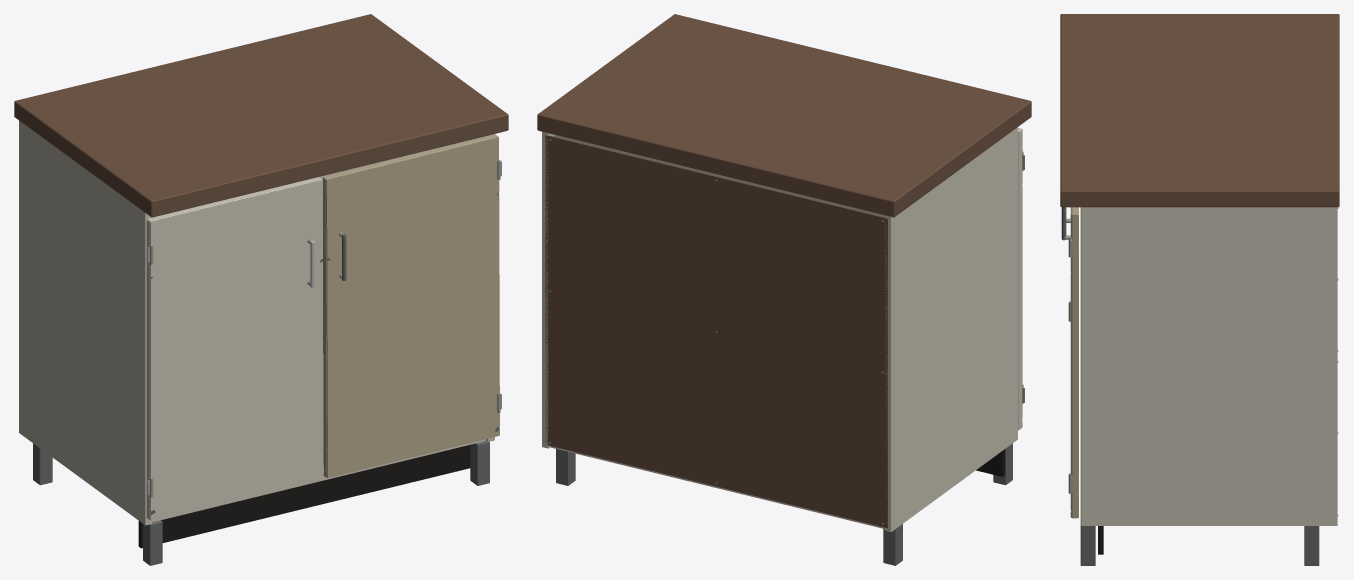
The model's file is kitchen-base-cabinet-8ca3b1d81df8.glb.
The picture shows the model from 3 angles, left to right: view 1: azimuth 30°, elevation 25°; view 2: azimuth 150°, elevation 25°; view 3: azimuth 270°, elevation 25°; orthographic projection.
Visible parts, largest first — view 1: enamel, wood, enamel-beige, enamel-black, metal; view 2: wood, enamel, metal; view 3: enamel, wood, enamel-beige, metal.
Boxes of the visible parts, x1=… form: enamel: x1=19, y1=120, x2=494, y2=525; wood: x1=14, y1=14, x2=508, y2=217; enamel-beige: x1=322, y1=134, x2=499, y2=477; enamel-black: x1=138, y1=445, x2=470, y2=548; metal: x1=33, y1=137, x2=499, y2=565; wood: x1=537, y1=14, x2=1031, y2=528; enamel: x1=542, y1=127, x2=1022, y2=531; metal: x1=556, y1=443, x2=1012, y2=565; enamel: x1=1080, y1=207, x2=1337, y2=525; wood: x1=1060, y1=14, x2=1339, y2=207; enamel-beige: x1=1070, y1=207, x2=1078, y2=518; metal: x1=1061, y1=207, x2=1319, y2=565.
Bounding box in the file's own units: 0.9 × 0.9 × 0.6.
